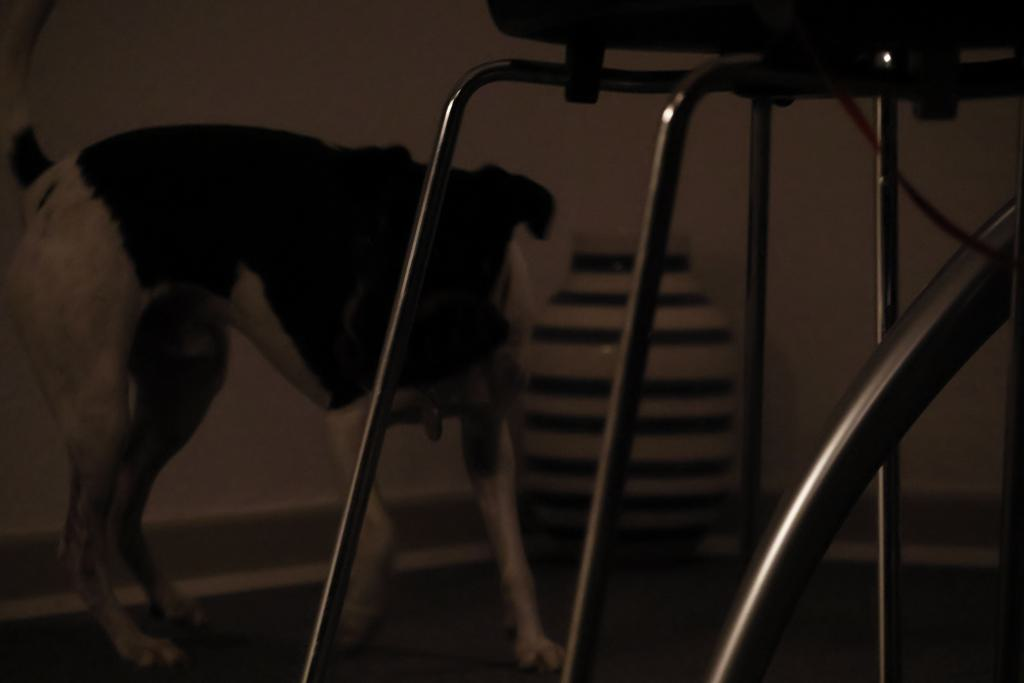Dog: (0, 0, 578, 683)
